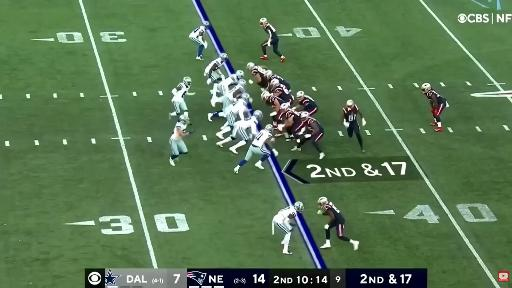Helmet: (421, 82, 431, 95), (317, 197, 329, 207), (263, 70, 273, 80), (294, 201, 304, 211), (280, 102, 289, 113), (246, 61, 255, 71), (254, 110, 263, 120), (270, 80, 279, 89), (241, 94, 251, 102), (262, 91, 270, 101), (301, 111, 308, 122), (180, 115, 189, 123), (297, 91, 305, 100), (220, 53, 228, 61), (265, 125, 273, 133), (347, 100, 353, 110), (203, 21, 210, 29), (239, 79, 246, 87), (260, 19, 267, 26), (184, 78, 191, 85), (238, 70, 244, 77)
Jersey: (279, 109, 304, 134), (323, 202, 344, 224), (236, 117, 257, 136), (220, 75, 240, 94), (251, 66, 268, 88), (273, 84, 292, 102), (252, 130, 272, 147), (205, 58, 224, 75), (172, 82, 189, 101), (232, 99, 248, 119), (269, 75, 290, 90), (299, 95, 317, 112), (278, 206, 298, 220), (425, 90, 446, 103), (171, 122, 186, 140), (343, 105, 358, 123), (304, 118, 323, 132), (263, 24, 278, 41), (228, 86, 244, 101), (266, 95, 285, 106), (279, 109, 298, 120), (190, 26, 206, 38)
Player: (318, 197, 359, 250), (216, 111, 262, 154), (234, 125, 273, 173), (272, 202, 303, 254), (216, 93, 250, 139), (208, 80, 246, 121), (292, 112, 324, 159), (422, 83, 448, 131), (211, 70, 243, 106), (170, 115, 193, 165), (343, 100, 365, 152), (276, 103, 305, 141), (260, 18, 285, 62), (169, 77, 194, 119), (204, 53, 227, 91), (262, 91, 285, 128), (190, 22, 209, 60), (269, 79, 294, 105), (294, 91, 318, 115), (247, 63, 268, 90), (264, 70, 290, 90)
